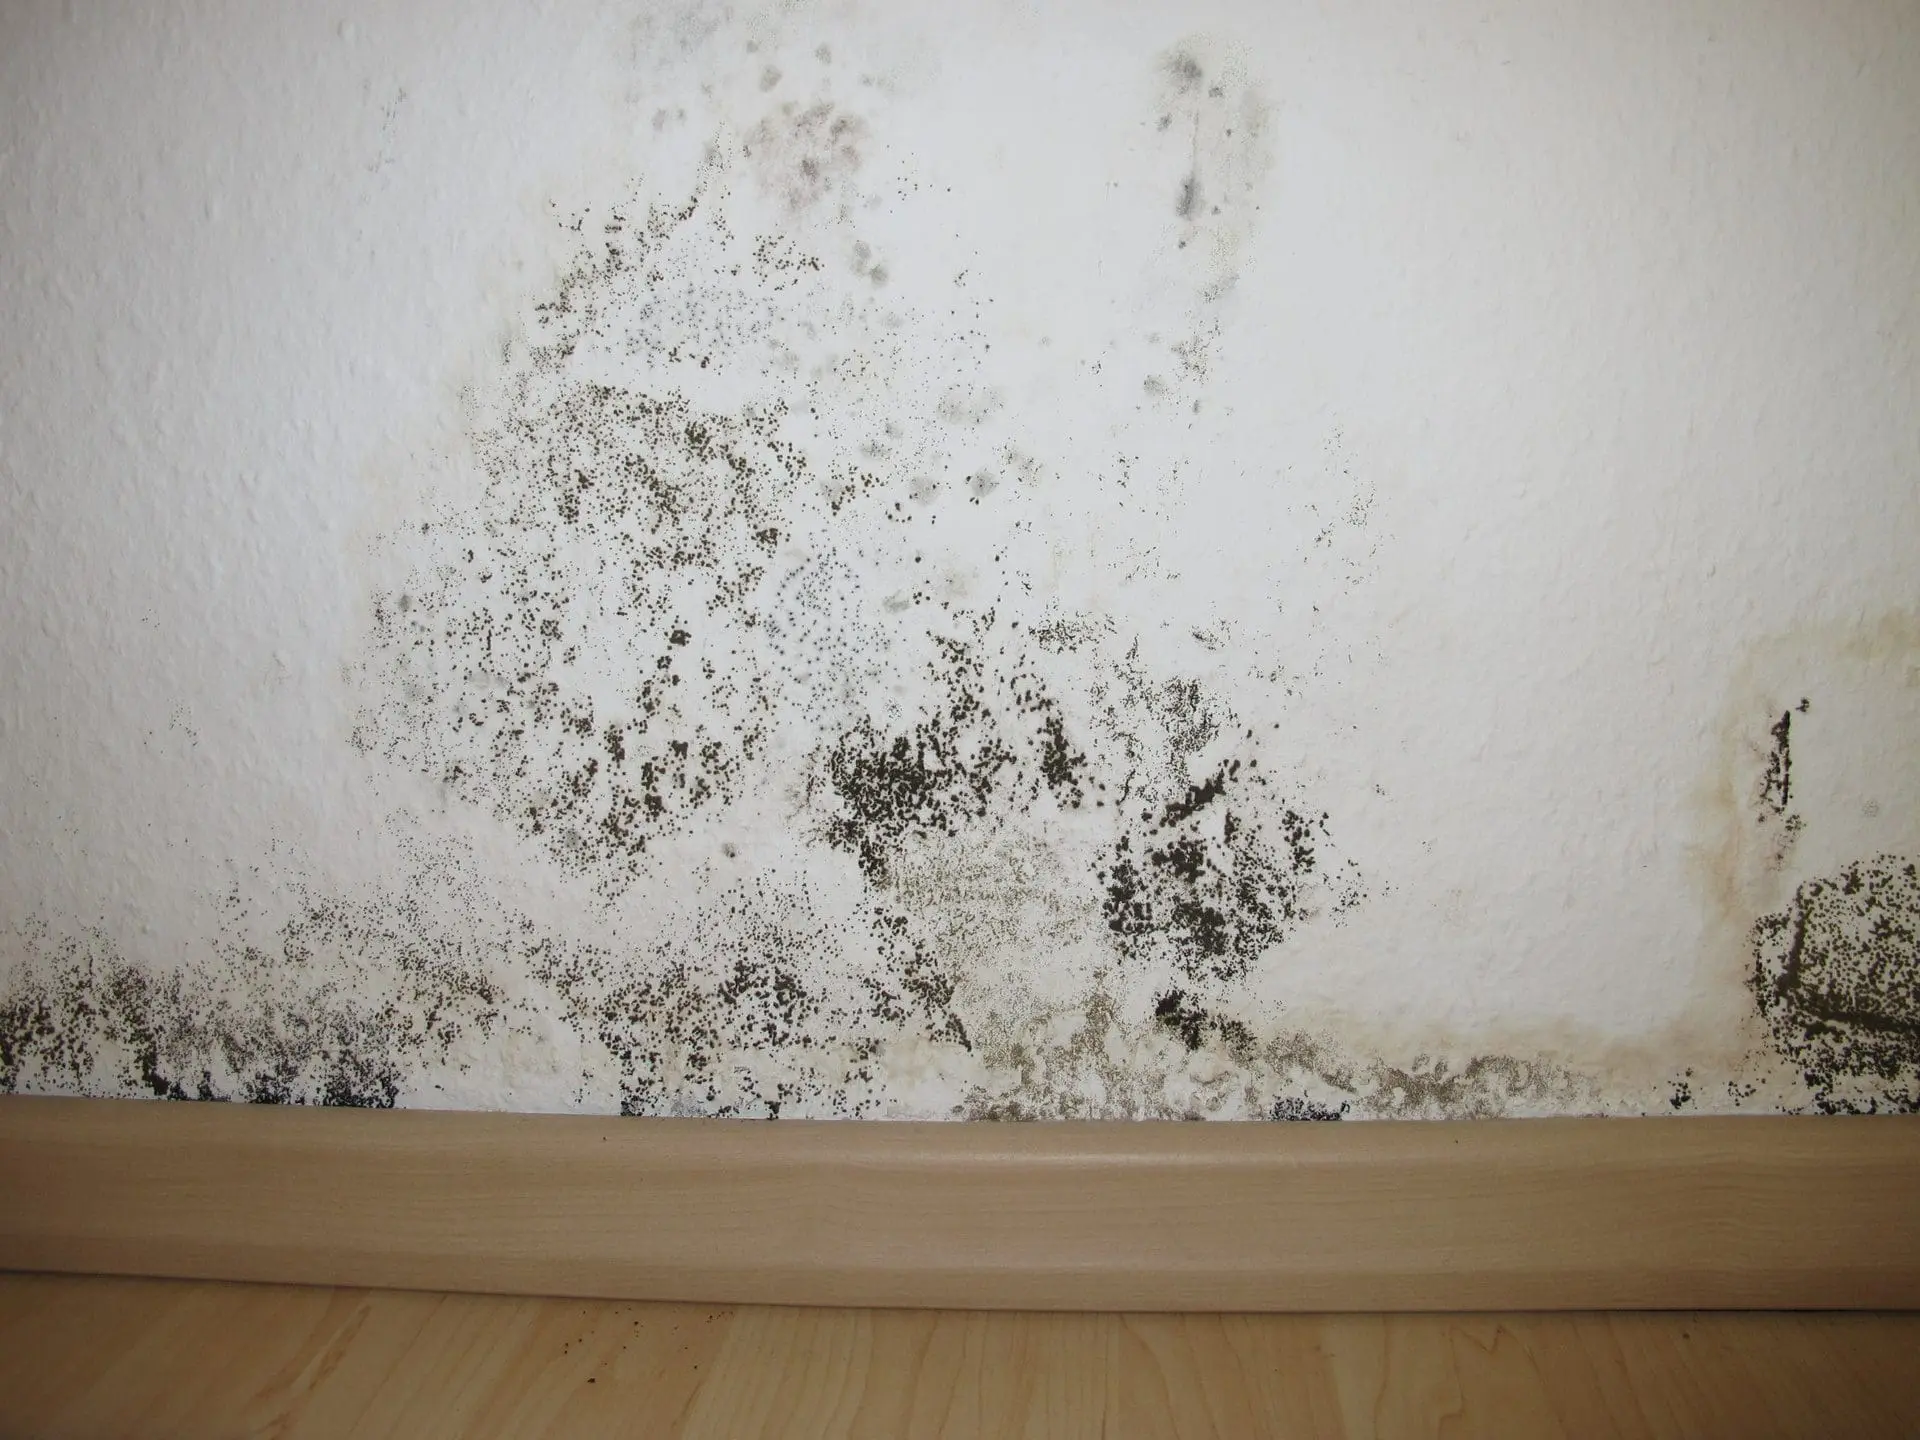schimmel: (1072, 663, 1421, 1068), (414, 446, 738, 870), (742, 669, 1036, 932), (555, 974, 1013, 1125), (0, 947, 422, 1107)
